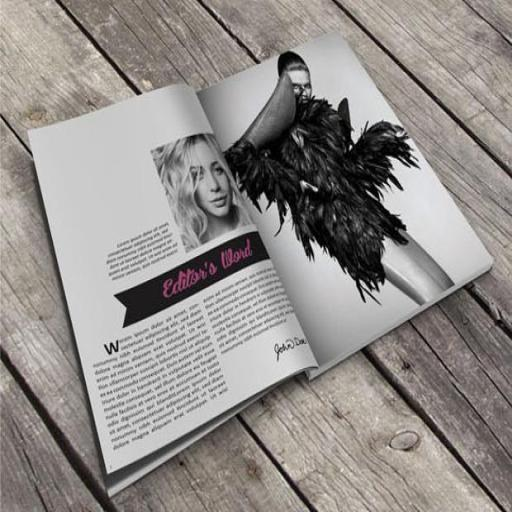paper: (29, 28, 495, 500)
